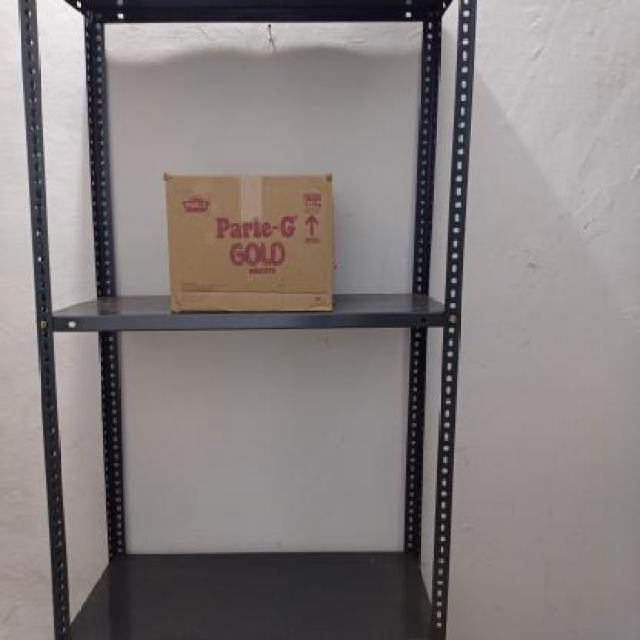box: (162, 170, 336, 310)
